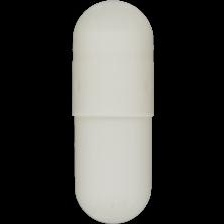43063-664: (0, 0, 224, 224)
